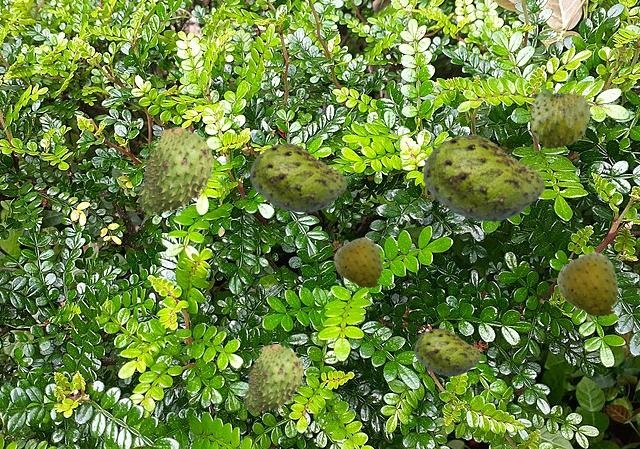guyabano: (422, 134, 544, 221), (135, 127, 213, 214), (249, 143, 346, 212), (241, 344, 303, 413), (556, 252, 618, 317), (529, 88, 592, 148), (414, 328, 480, 375), (333, 237, 382, 288)
